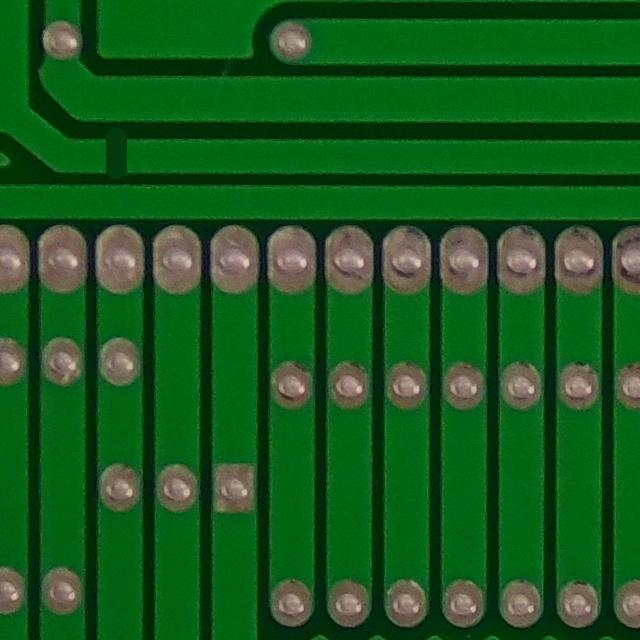open_circuit: (82, 121, 148, 184)
